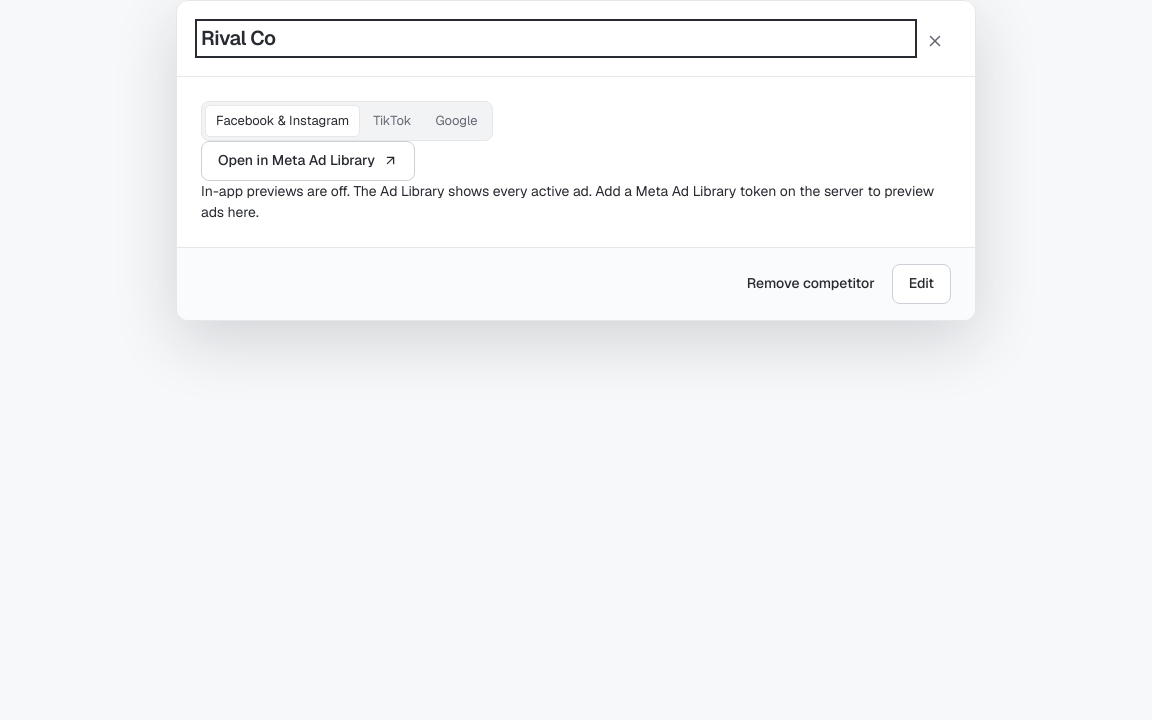
Test: CompetitorScreen libraries › asks for a website or advertiser ID when Google has neither
Click the button "Google": [457, 121] box [424, 105, 489, 136]
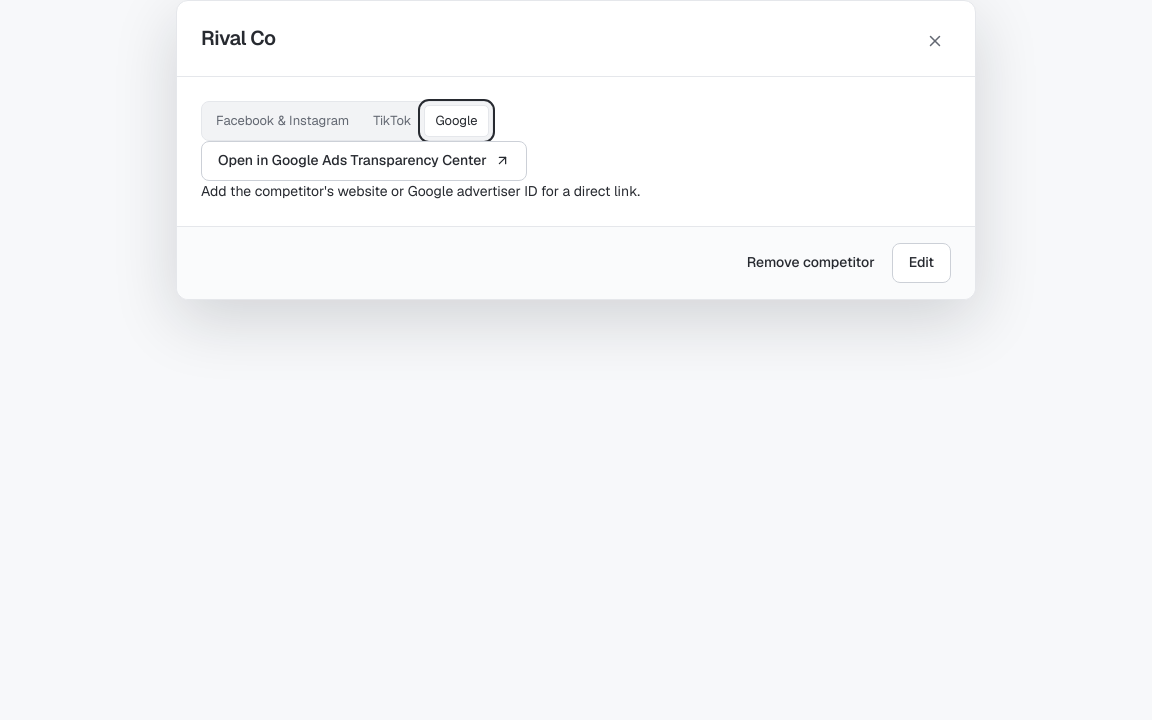
Check: the text "Add the competitor's website or Google advertiser ID for a direct link." is shown, box [201, 182, 640, 200]
